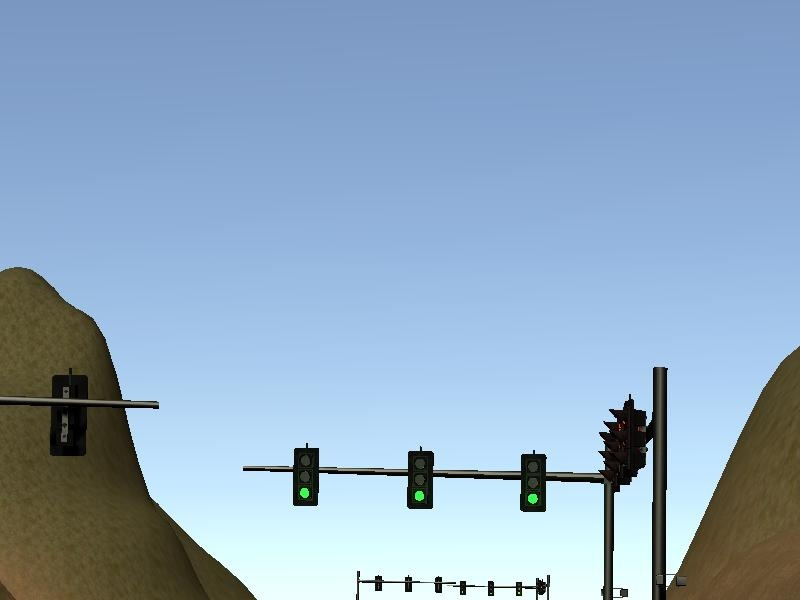green: (293, 448, 319, 507), (408, 450, 433, 509), (522, 454, 547, 511)
